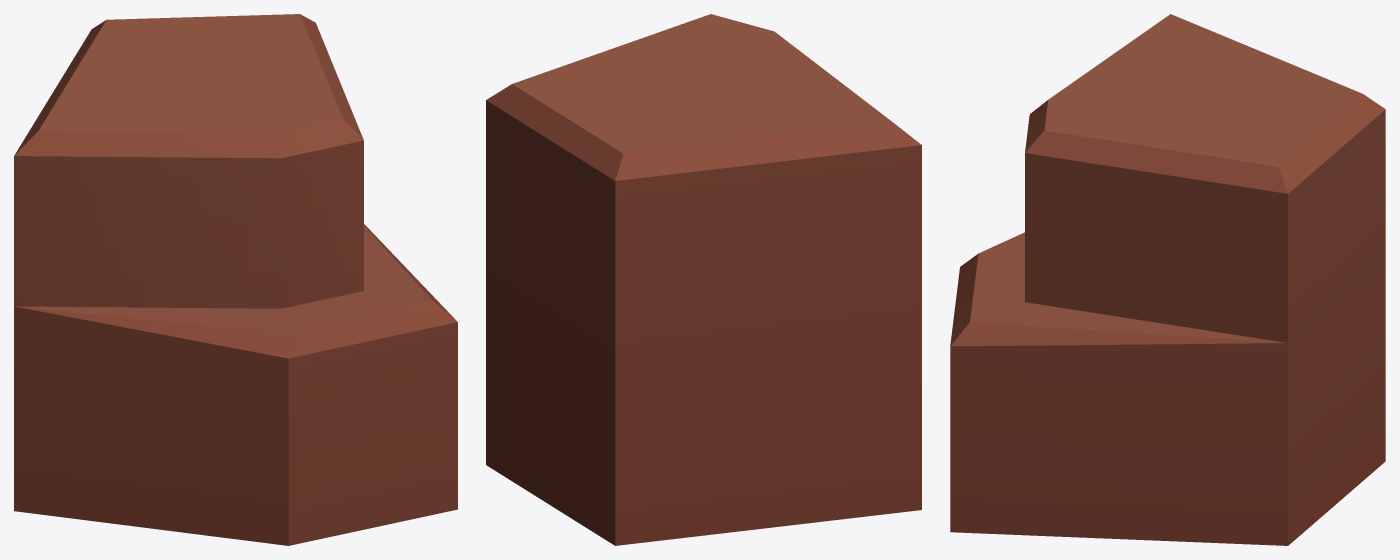
File: Rock_1_B_Color2.fbx
3 renders of one model, left to right at view 1: azimuth 30°, elevation 25°; view 2: azimuth 150°, elevation 25°; view 3: azimuth 270°, elevation 25°, orthographic. The views are drawn at different scales.
Visible parts, largest first — view 1: Rock_1_B_Color2; view 2: Rock_1_B_Color2; view 3: Rock_1_B_Color2.
Part boxes in pixels (left/top/right/bottom): Rock_1_B_Color2: left=14, top=14, right=457, bottom=545; Rock_1_B_Color2: left=486, top=14, right=921, bottom=545; Rock_1_B_Color2: left=950, top=14, right=1385, bottom=545.
Bounding box in the file's own units: 0.5511 × 0.5403 × 0.5778.
